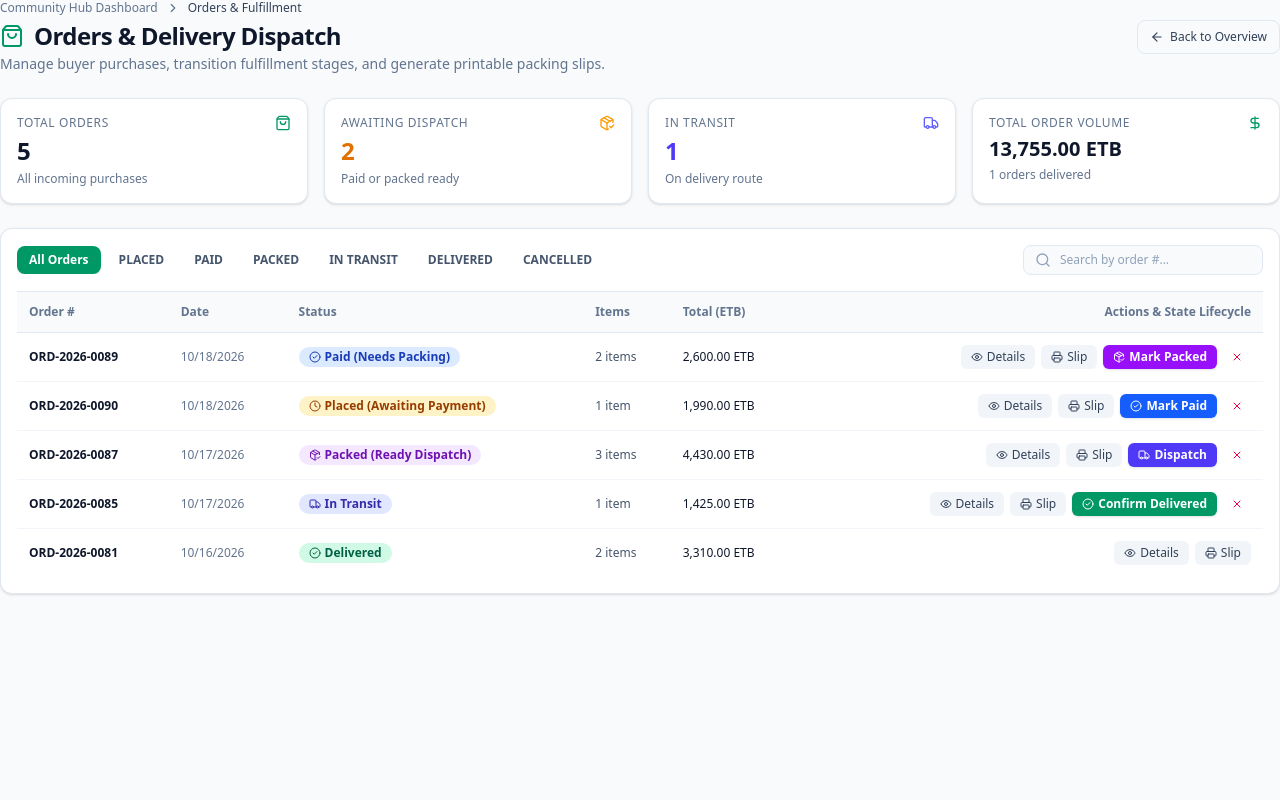
Test: EnterpriseOrdersPage Component (F-909) › opens order details modal with line items and audit trail
Step 1. Click the button with test id "btn-view-ord-001" → (998, 357), box left=961, top=345, right=1035, bottom=369
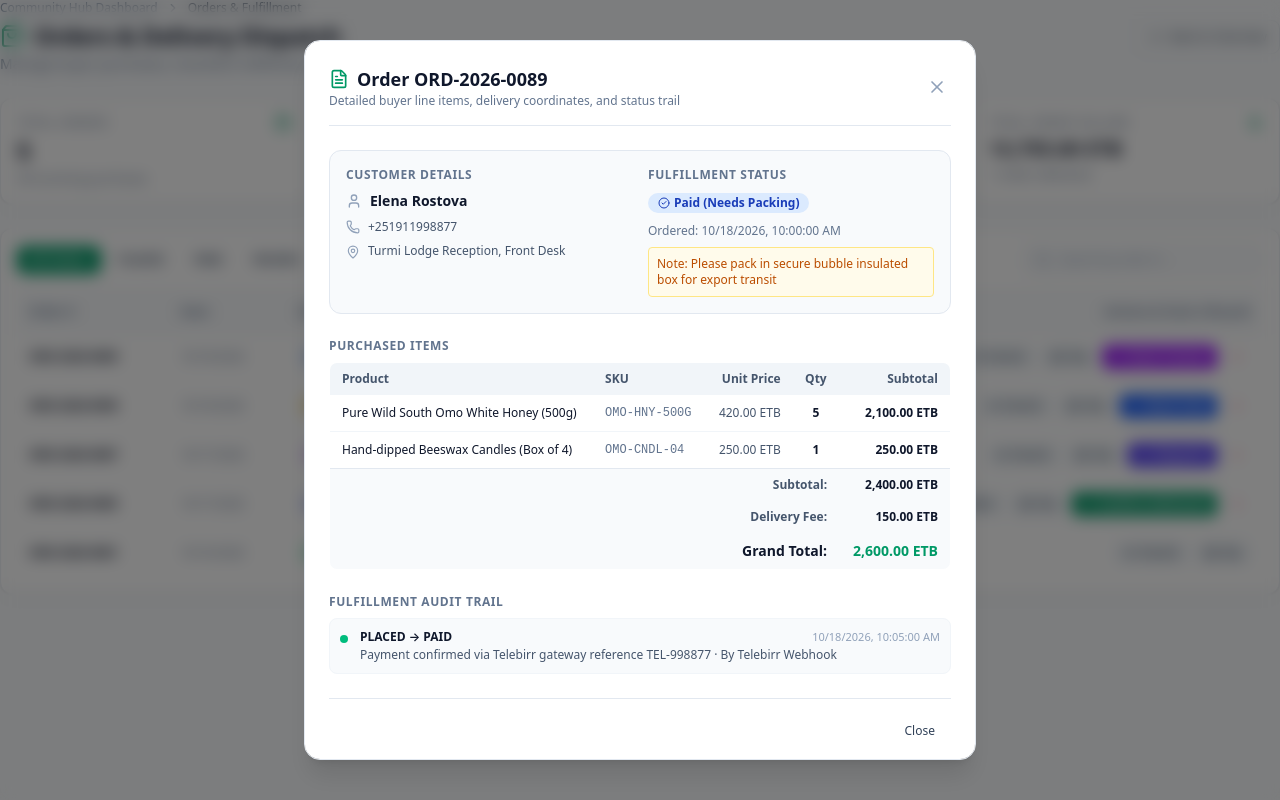
Now the element with test id "order-detail-modal" is shown
Now the text "Elena Rostova" is shown, box left=370, top=191, right=467, bottom=211
Now the text "Turmi Lodge Reception, Front Desk" is shown, box left=368, top=243, right=565, bottom=259
